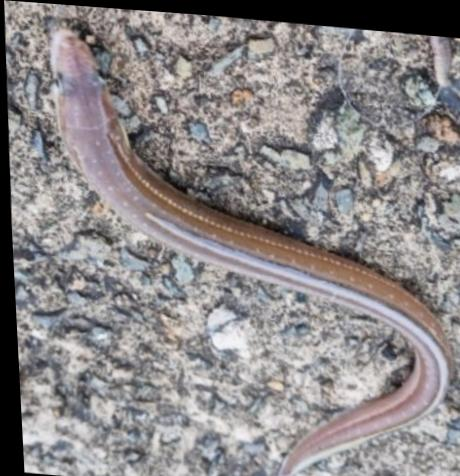fish: (49, 28, 447, 476)
